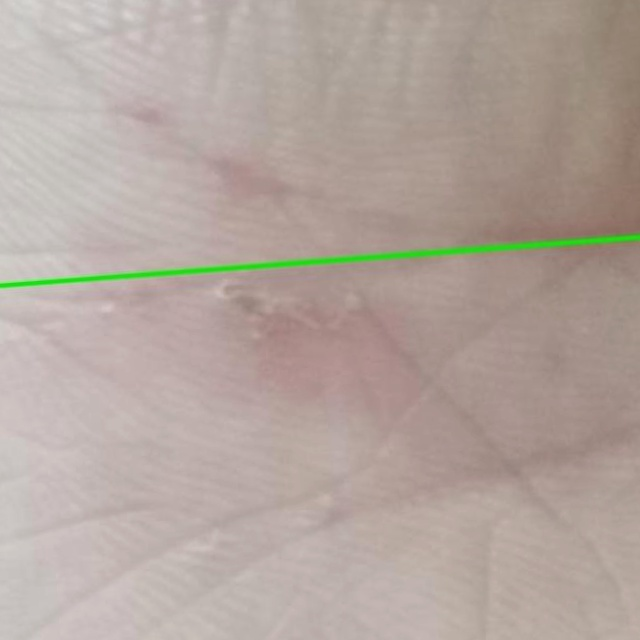Scabies: (0, 237, 639, 639)
